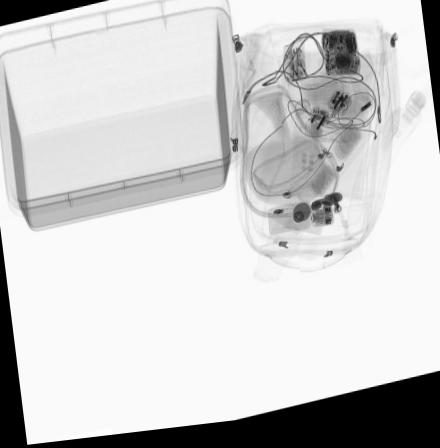Lighter: (280, 186, 315, 206)
